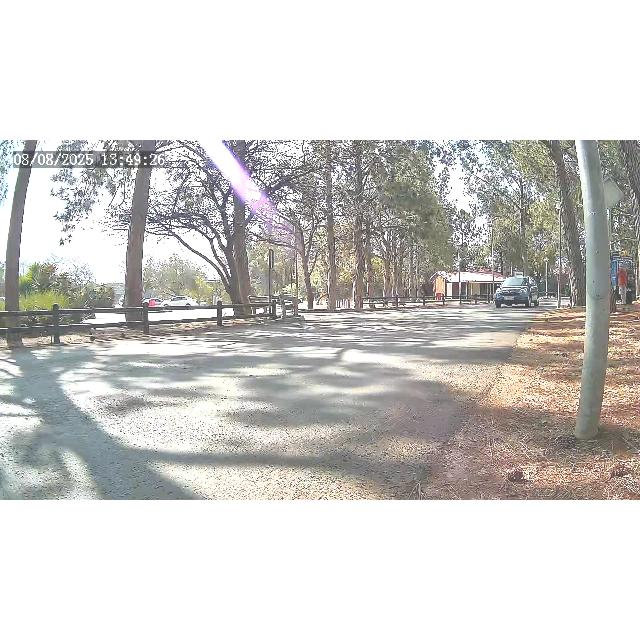car: (494, 276, 540, 308)
